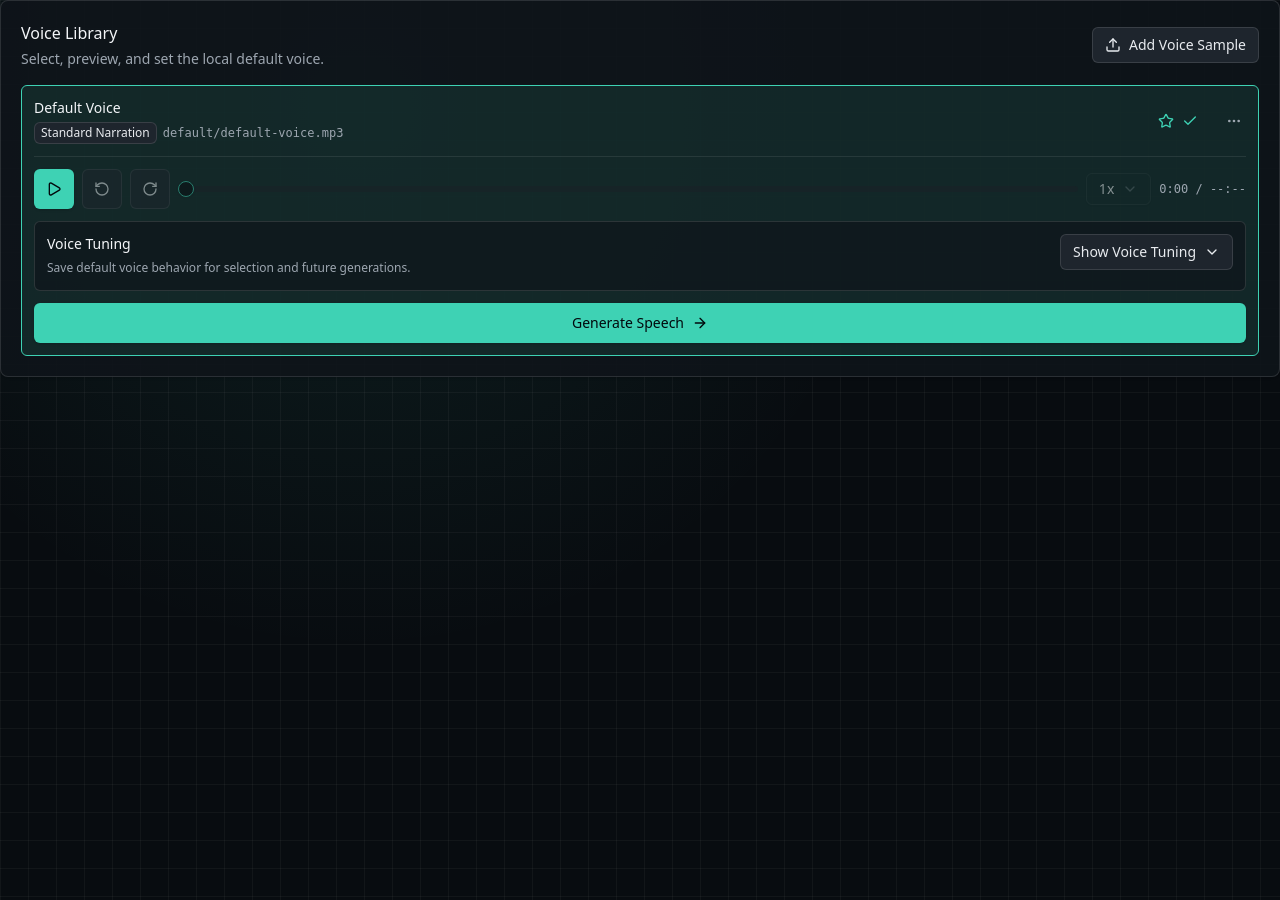
VoiceLibraryPanel voice tuning › renders expanded tuning loading with the pending work surface
This screenshot has width=1280, height=900.
Click the button "Show Voice Tuning": [1147, 252] box x1=1060 y1=234 x2=1233 y2=270
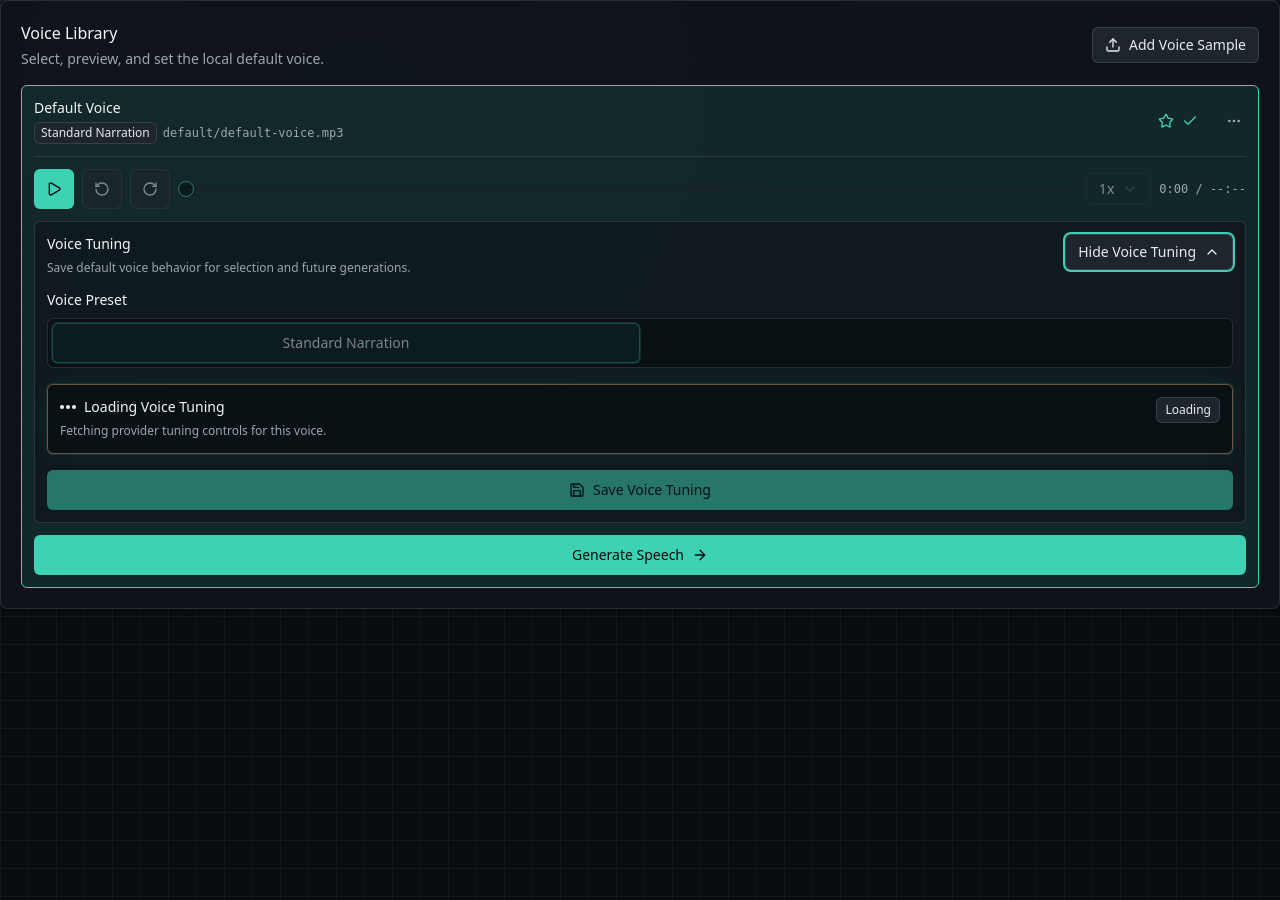
Check: the message "Loading Voice Tuning" shows "Fetching provider tuning controls for this voice.", box x1=60 y1=422 x2=326 y2=439
